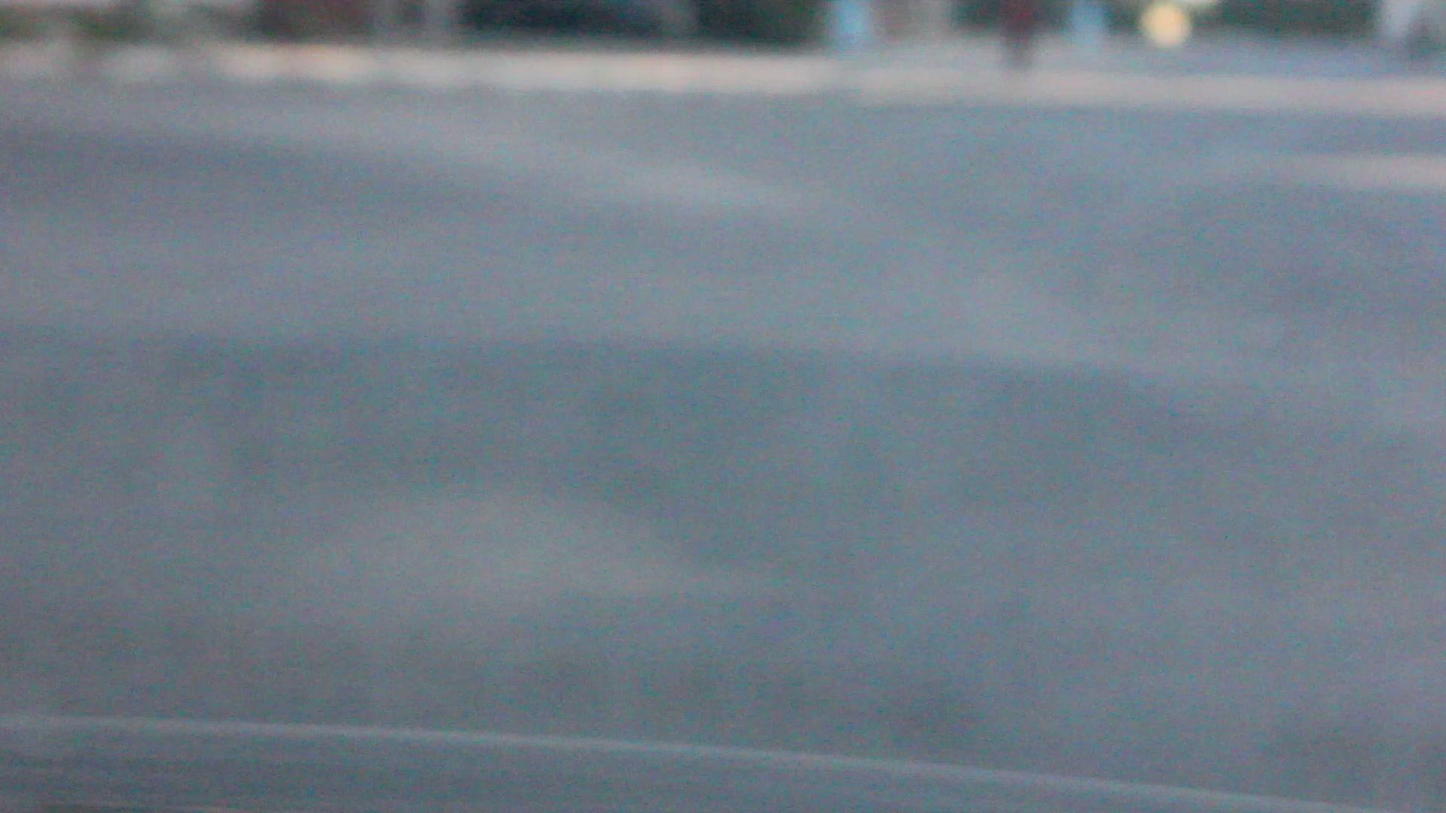Bump: (9, 314, 1446, 506)
